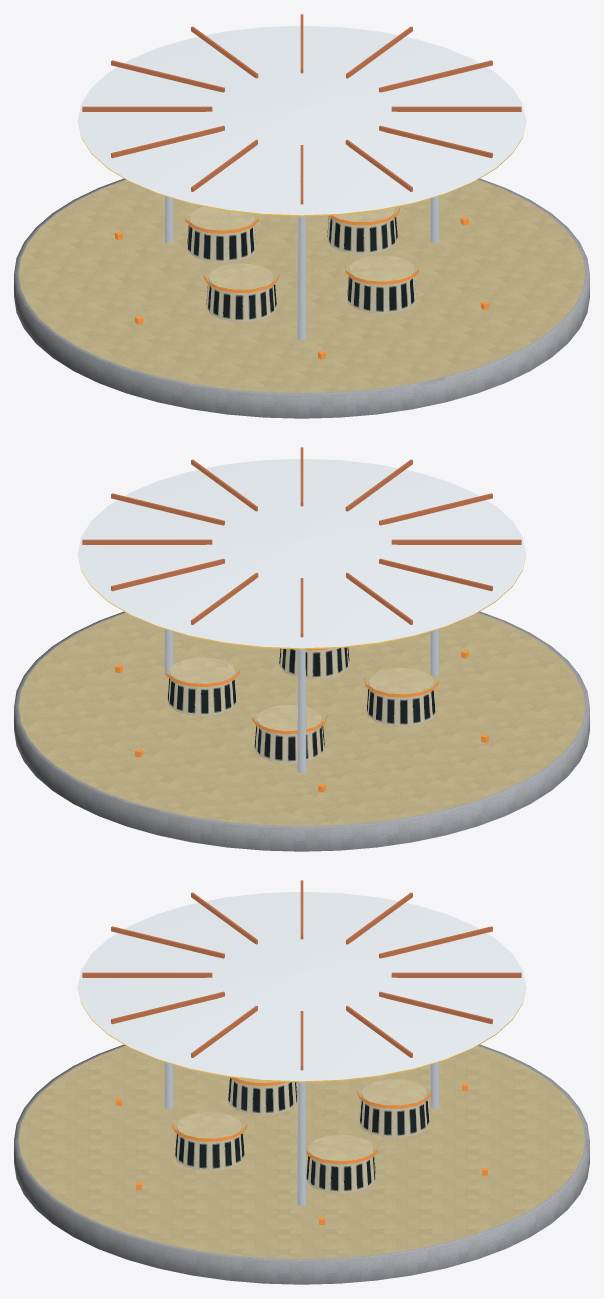
File: mercury_shade_village.glb
3 renders of one model, top to bottom at view 1: azimuth 30°, elevation 25°; view 2: azimuth 150°, elevation 25°; view 3: azimuth 270°, elevation 25°, orthographic.
Visible parts, largest first — view 1: mercury_shade_village_LOD0; view 2: mercury_shade_village_LOD0; view 3: mercury_shade_village_LOD0.
Part boxes in pixels (box(x1,y1,x2,y2)): mercury_shade_village_LOD0: box(14, 14, 589, 418); mercury_shade_village_LOD0: box(14, 447, 589, 851); mercury_shade_village_LOD0: box(14, 880, 589, 1284).
Size of what is drawn, in the model's own units: 48.8 by 17.75 by 48.8.
Materials: 3 (3 with a texture image).
